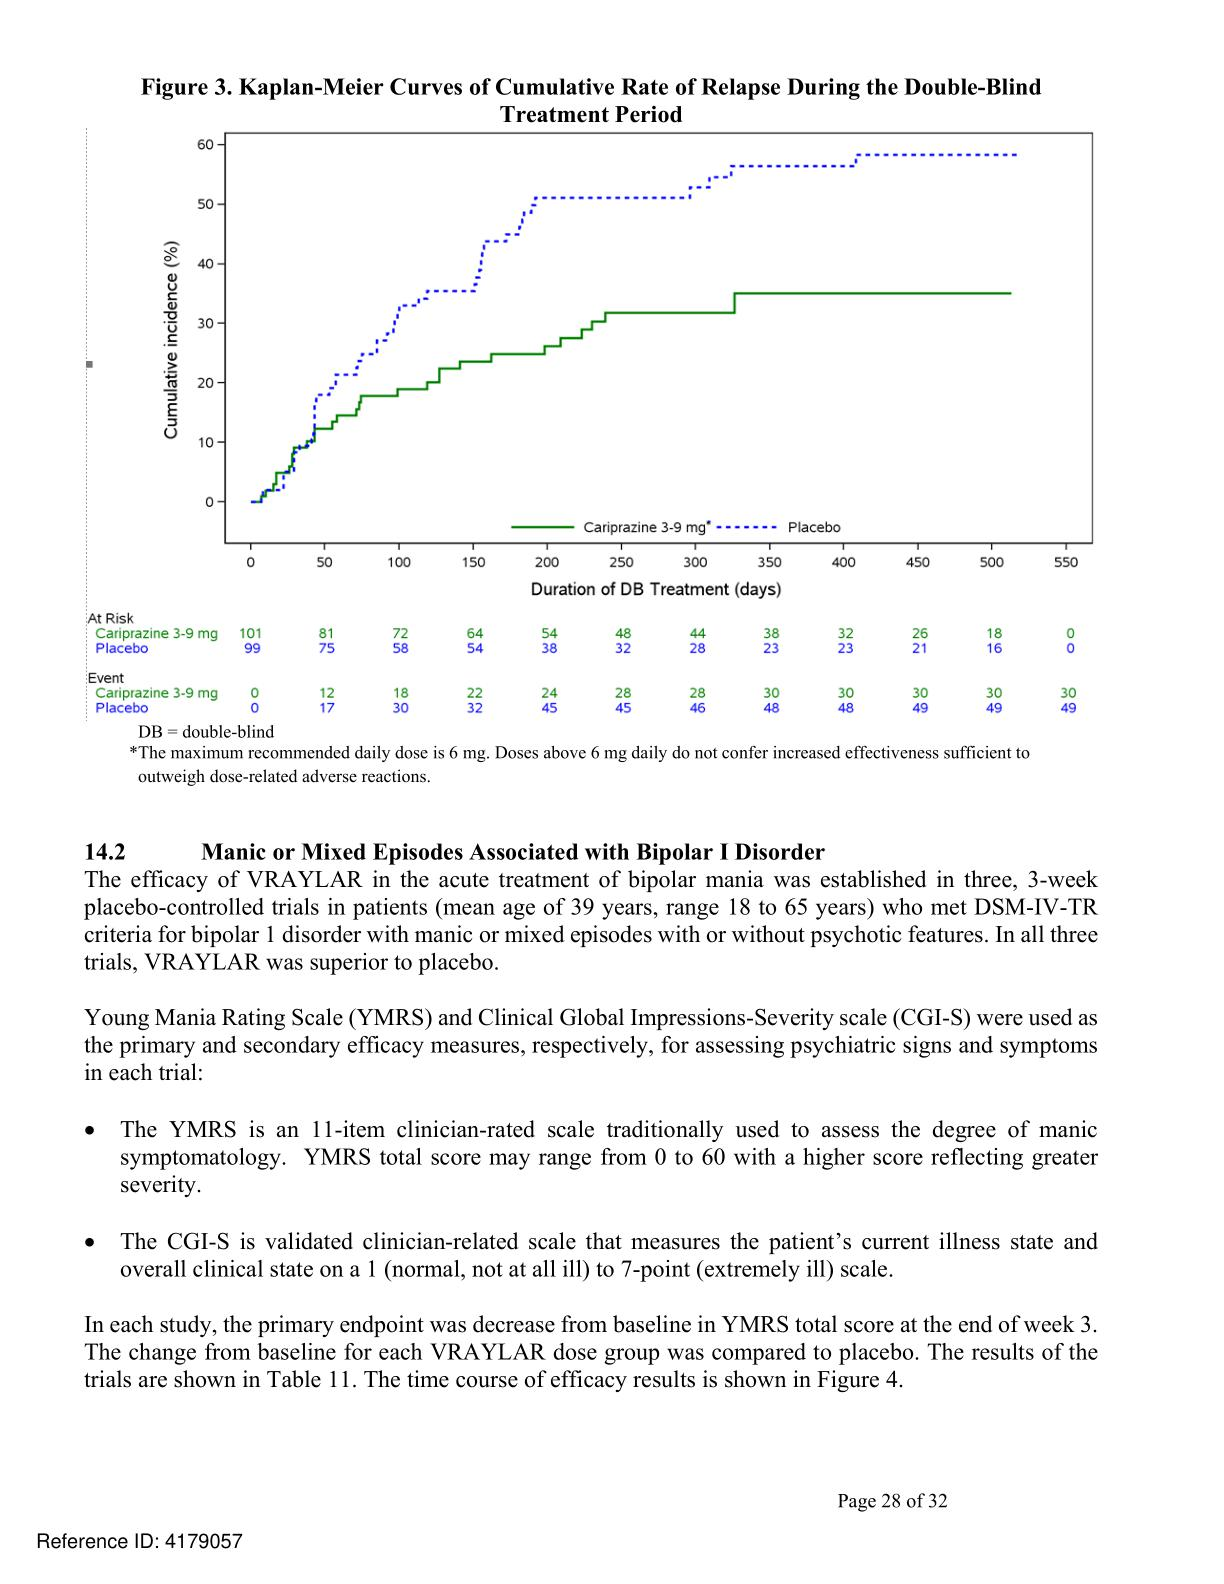nolines: (85, 611, 1080, 719)
